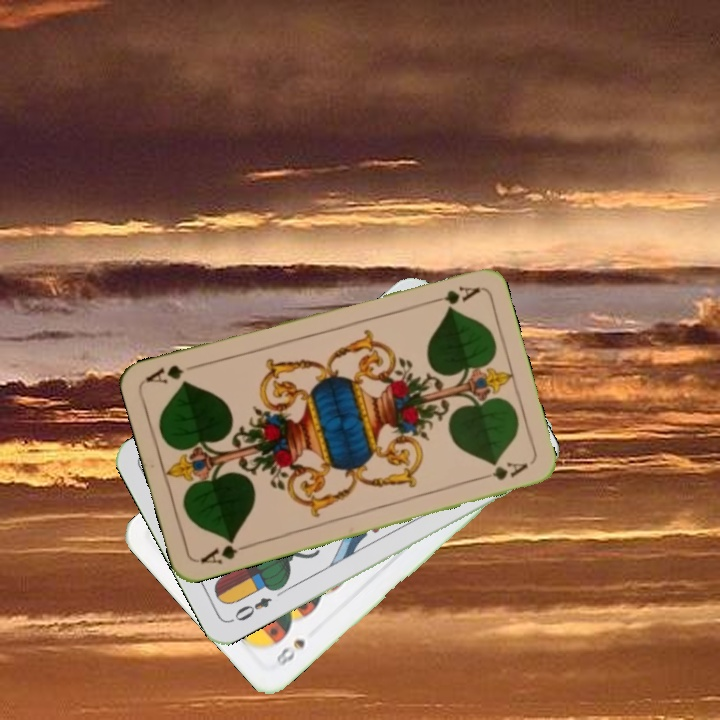EO: (230, 593, 275, 624)
GA: (196, 534, 253, 567), (423, 282, 482, 307)
S8: (272, 634, 308, 671)
